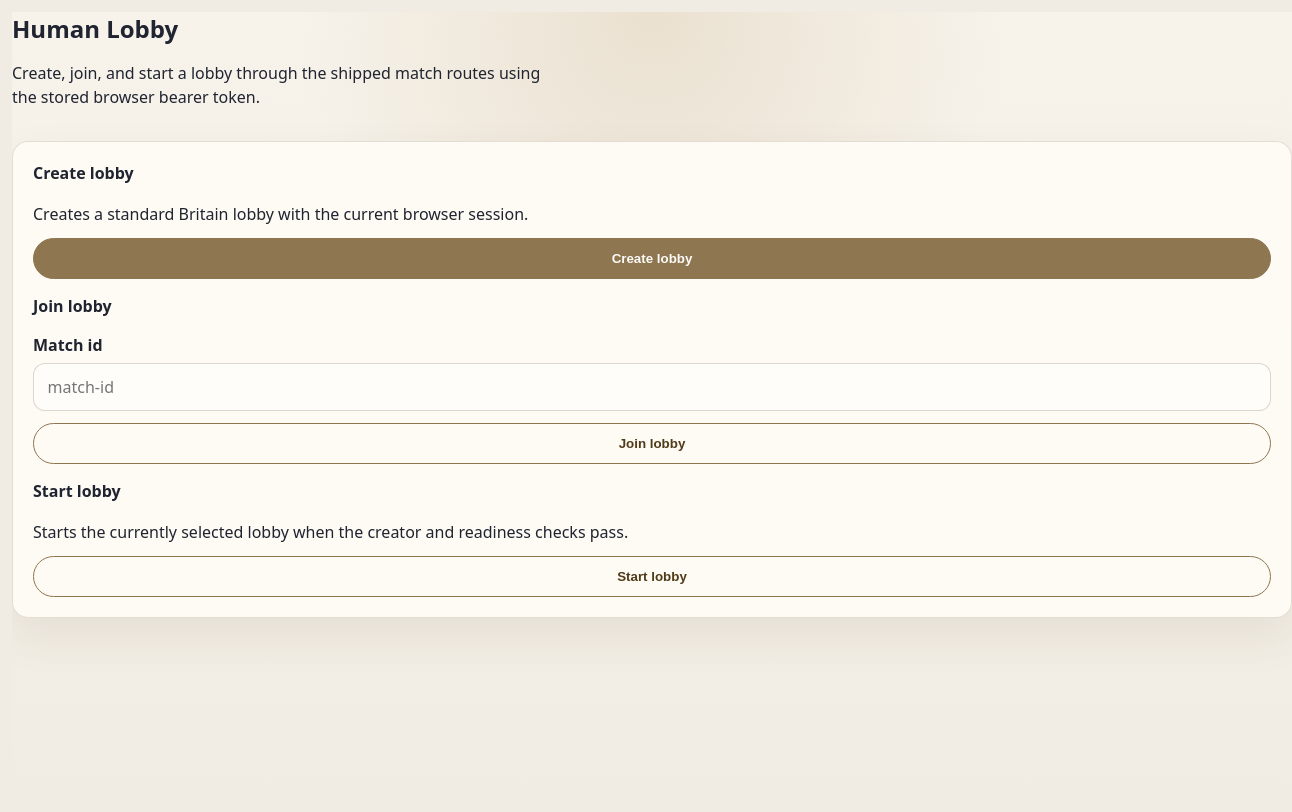
Test case: HumanLobbyPage › joins a lobby and keeps the last server-confirmed state deterministic
Type "match-beta" into the field labelled "Match id". click: (652,387)
box: [33, 363, 1271, 411]
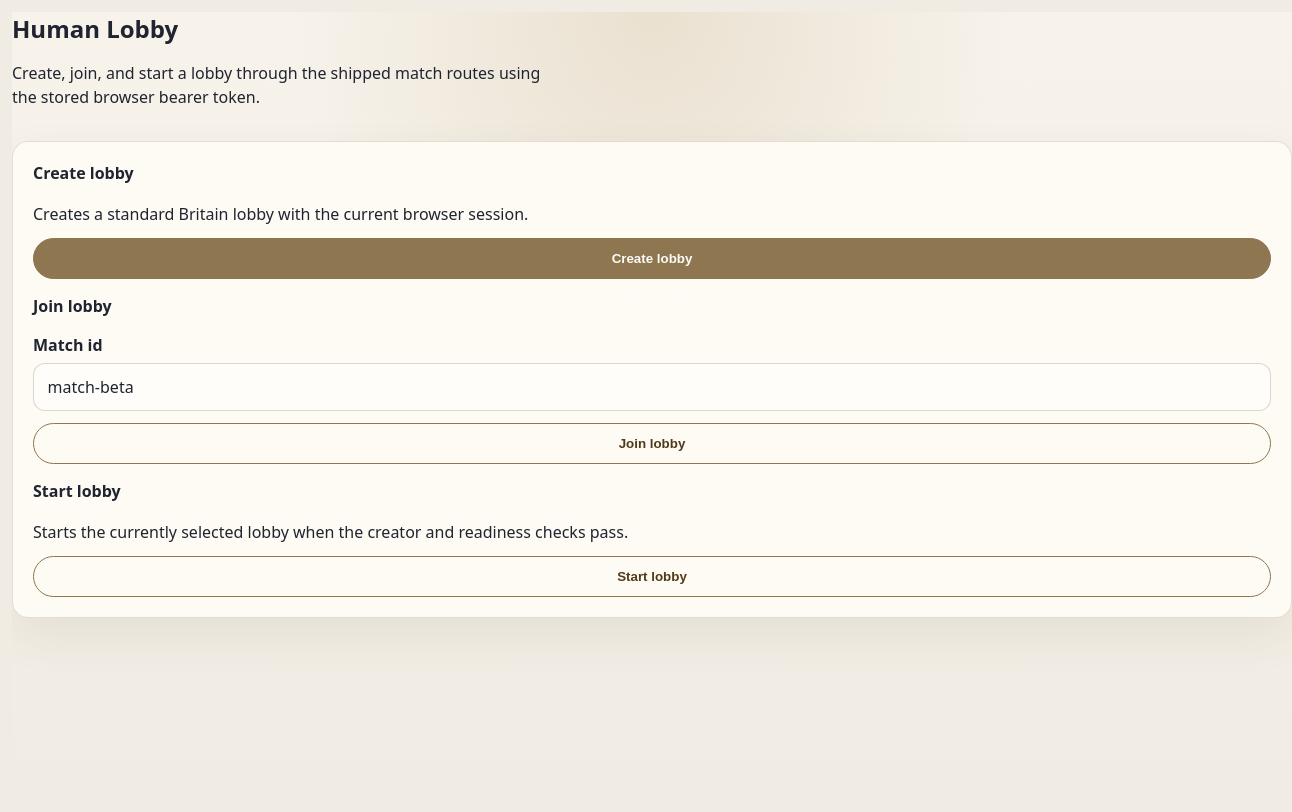
Click the button "Join lobby". click: (652,444)
box: [33, 423, 1271, 464]
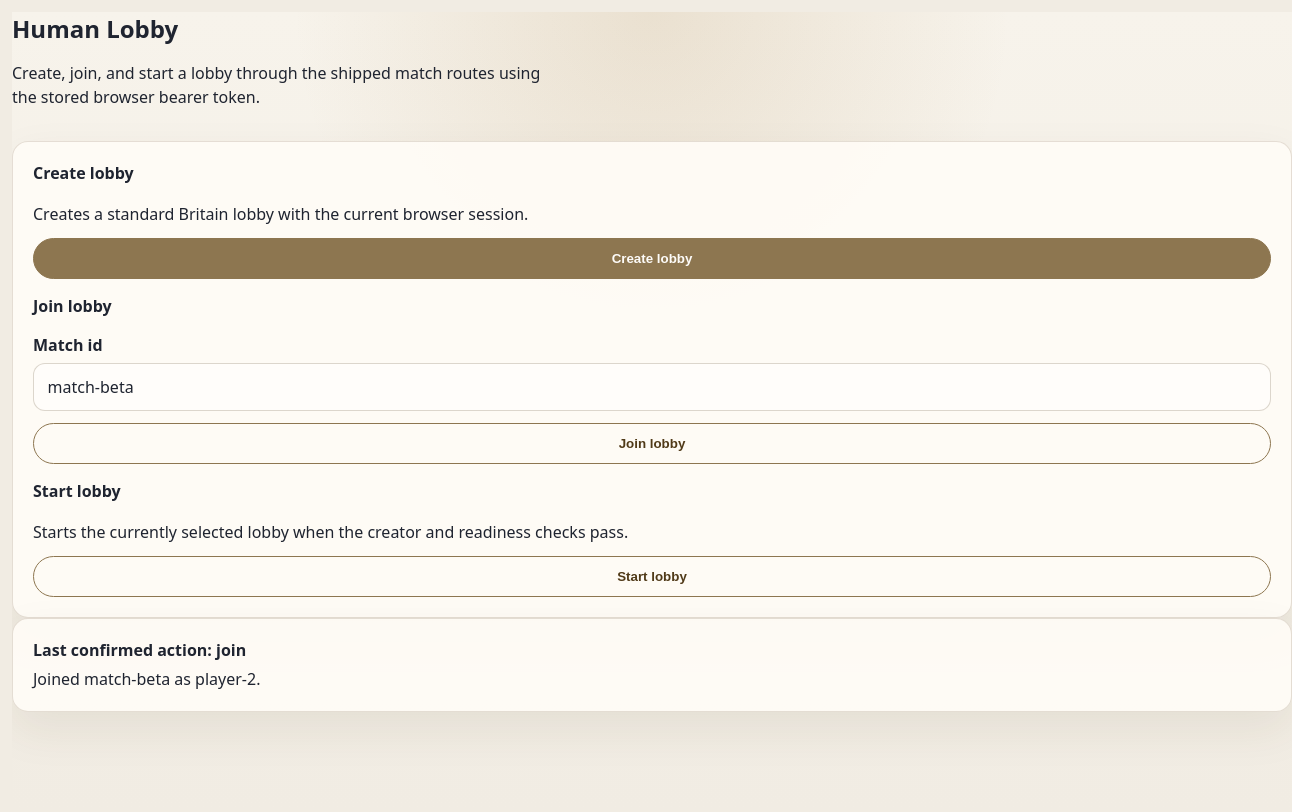
Expected: the text "Joined match-beta as player-2." is shown, [33, 668, 260, 690]
